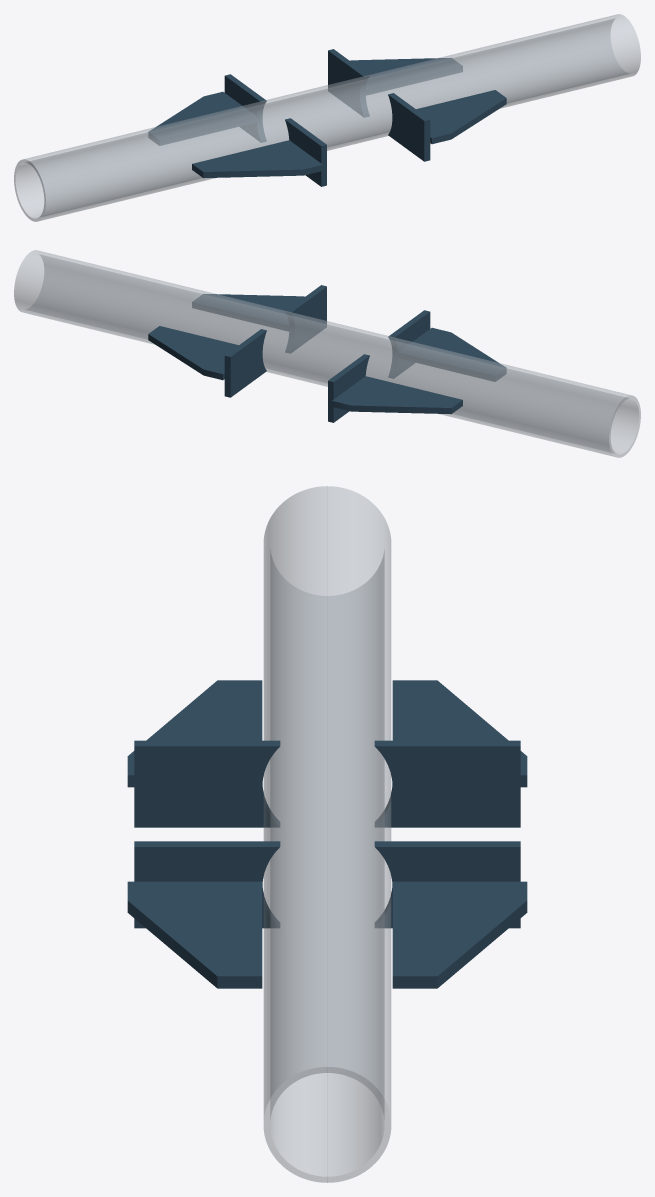
Rendered from TS-660.00.00-03-opora-dn57.glb.
3 renders of one model, top to bottom at view 1: azimuth 30°, elevation 25°; view 2: azimuth 150°, elevation 25°; view 3: azimuth 270°, elevation 25°, orthographic. The views are drawn at different scales.
Parts seen in each view (by area): view 1: truba, upor_4, upor_8, upor_6, upor_2, upor_1, upor_5, upor_7, upor_3; view 2: truba, upor_8, upor_4, upor_2, upor_6, upor_5, upor_1, upor_3, upor_7; view 3: truba, upor_3, upor_7, upor_2, upor_6, upor_1, upor_5, upor_4, upor_8.
Part boxes in pixels (<box>): truba: <box>14,14,640,221</box>; upor_4: <box>192,140,322,178</box>; upor_8: <box>148,91,256,145</box>; upor_6: <box>350,58,462,95</box>; upor_2: <box>416,90,506,144</box>; upor_1: <box>388,93,430,161</box>; upor_5: <box>328,49,369,117</box>; upor_7: <box>224,74,266,142</box>; upor_3: <box>285,118,326,186</box>; truba: <box>14,250,640,457</box>; upor_8: <box>332,376,462,414</box>; upor_4: <box>398,327,506,381</box>; upor_2: <box>192,294,304,331</box>; upor_6: <box>148,326,238,380</box>; upor_5: <box>224,329,266,397</box>; upor_1: <box>285,285,326,353</box>; upor_3: <box>388,310,430,378</box>; upor_7: <box>328,354,369,422</box>; truba: <box>263,486,391,1182</box>; upor_3: <box>134,740,280,827</box>; upor_7: <box>374,740,520,827</box>; upor_2: <box>127,881,262,988</box>; upor_6: <box>392,881,527,988</box>; upor_1: <box>134,841,280,928</box>; upor_5: <box>374,841,520,928</box>; upor_4: <box>127,680,262,787</box>; upor_8: <box>392,680,527,787</box>.
Bounding box in the file's own units: 612 × 57 × 178.
